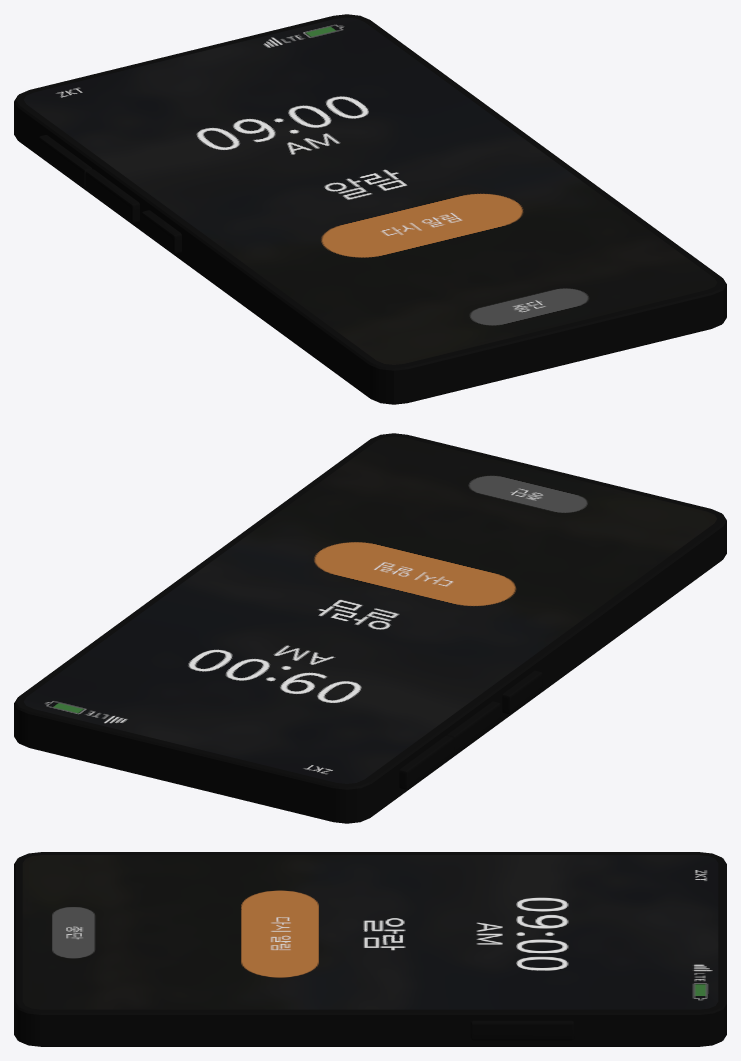
Rendered from EdenP_Alarm.fbx.
The picture shows the model from 3 angles, top to bottom: view 1: azimuth 30°, elevation 25°; view 2: azimuth 150°, elevation 25°; view 3: azimuth 270°, elevation 25°; orthographic projection. The views are drawn at different scales.
Visible parts, largest first — view 1: EdenPhone_Alarm1; view 2: EdenPhone_Alarm1; view 3: EdenPhone_Alarm1.
Part boxes in pixels (<box>): EdenPhone_Alarm1: <box>14,14,726,404</box>; EdenPhone_Alarm1: <box>14,433,726,823</box>; EdenPhone_Alarm1: <box>14,852,726,1046</box>.
Size of the model in its own units: 0.00458 by 0.000554 by 0.00822.
4 materials, 3 textured.
